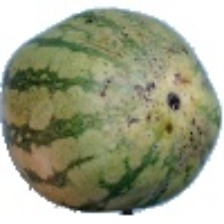watermelon: (12, 3, 184, 184)
